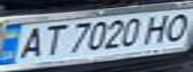0: (87, 18, 112, 53), (121, 15, 148, 47)
2: (103, 16, 130, 52)
7: (66, 20, 90, 55)
A: (9, 25, 51, 61)
H: (139, 12, 178, 45)
O: (157, 10, 193, 43)
T: (33, 23, 69, 57)
